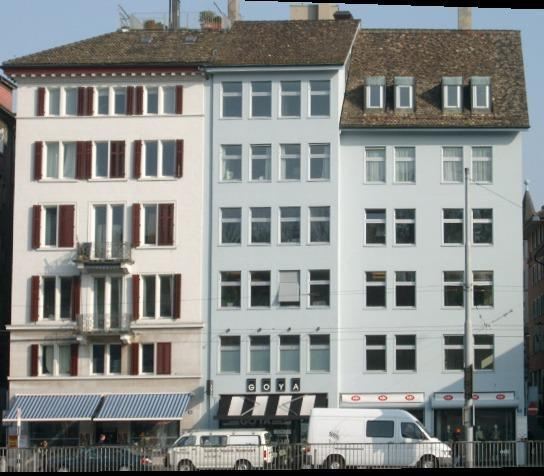window: (308, 80, 332, 118), (308, 270, 331, 308), (278, 270, 301, 308), (249, 271, 272, 309), (279, 80, 301, 118), (221, 82, 243, 120), (250, 144, 272, 182), (279, 207, 301, 245), (251, 207, 273, 245), (220, 271, 242, 309), (249, 335, 271, 373), (308, 335, 330, 373), (365, 146, 387, 183), (442, 146, 464, 183), (443, 209, 465, 246), (395, 209, 417, 246), (366, 209, 388, 246), (473, 271, 495, 308), (395, 272, 417, 309), (366, 272, 388, 309), (473, 335, 495, 372), (396, 335, 418, 372), (251, 82, 273, 119), (219, 336, 241, 373), (280, 336, 302, 373), (280, 144, 301, 182), (309, 143, 330, 181), (310, 206, 331, 244), (221, 208, 242, 246), (443, 335, 465, 371), (395, 147, 416, 184), (472, 146, 493, 183), (472, 209, 493, 246), (443, 271, 464, 308), (366, 335, 387, 372), (221, 145, 242, 182), (112, 204, 124, 259), (95, 205, 107, 260), (111, 276, 122, 331), (160, 276, 174, 319), (94, 277, 105, 331), (61, 277, 74, 321), (43, 277, 56, 321), (144, 204, 157, 247), (144, 276, 157, 319), (160, 204, 173, 246), (61, 206, 74, 248), (44, 206, 57, 248), (64, 142, 77, 181), (46, 142, 59, 180), (95, 141, 108, 179), (112, 142, 125, 180), (145, 141, 158, 179), (163, 141, 175, 179), (109, 345, 123, 376), (60, 345, 73, 376), (159, 343, 172, 374), (396, 86, 413, 109), (473, 86, 490, 109), (41, 347, 54, 377), (92, 346, 105, 376), (141, 344, 154, 374), (367, 86, 383, 109), (444, 86, 460, 109), (48, 87, 60, 116), (66, 89, 78, 118), (114, 88, 126, 116), (147, 87, 159, 115), (164, 87, 176, 115), (97, 89, 109, 116)
